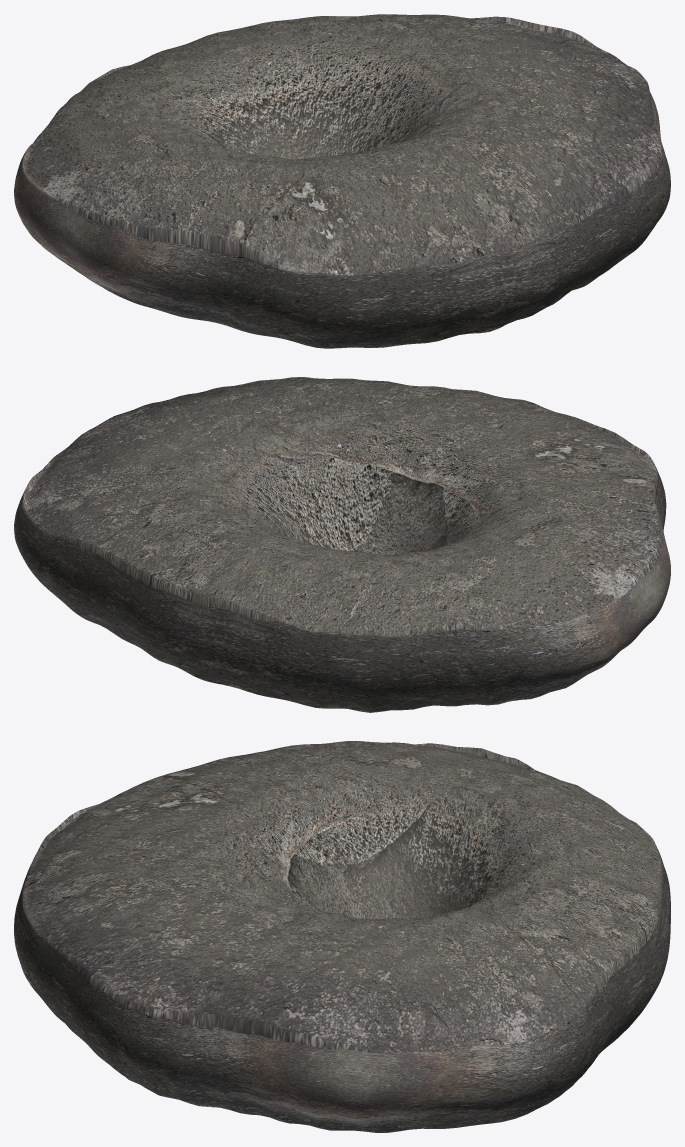
File: batu-cekungan-2.glb
The picture shows the model from 3 angles, top to bottom: view 1: azimuth 30°, elevation 25°; view 2: azimuth 150°, elevation 25°; view 3: azimuth 270°, elevation 25°; orthographic projection. The views are drawn at different scales.
Parts seen in each view (by area): view 1: Batu cekungan kedua; view 2: Batu cekungan kedua; view 3: Batu cekungan kedua.
Boxes of the visible parts, left/top/right/bottom form: Batu cekungan kedua: left=14, top=14, right=670, bottom=348; Batu cekungan kedua: left=14, top=377, right=670, bottom=712; Batu cekungan kedua: left=14, top=741, right=670, bottom=1132.
Size of the model in its own units: 2.8 by 0.6454 by 2.46.
Materials: 2 (2 with a texture image).
